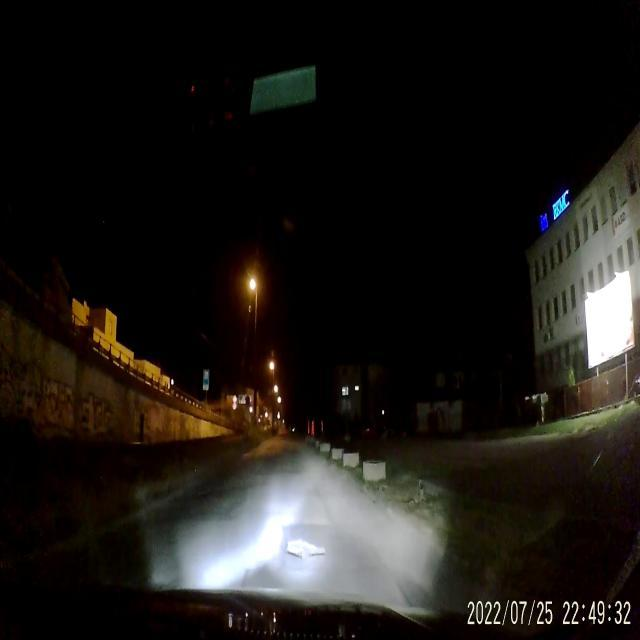Pothole: (283, 535, 328, 564)
